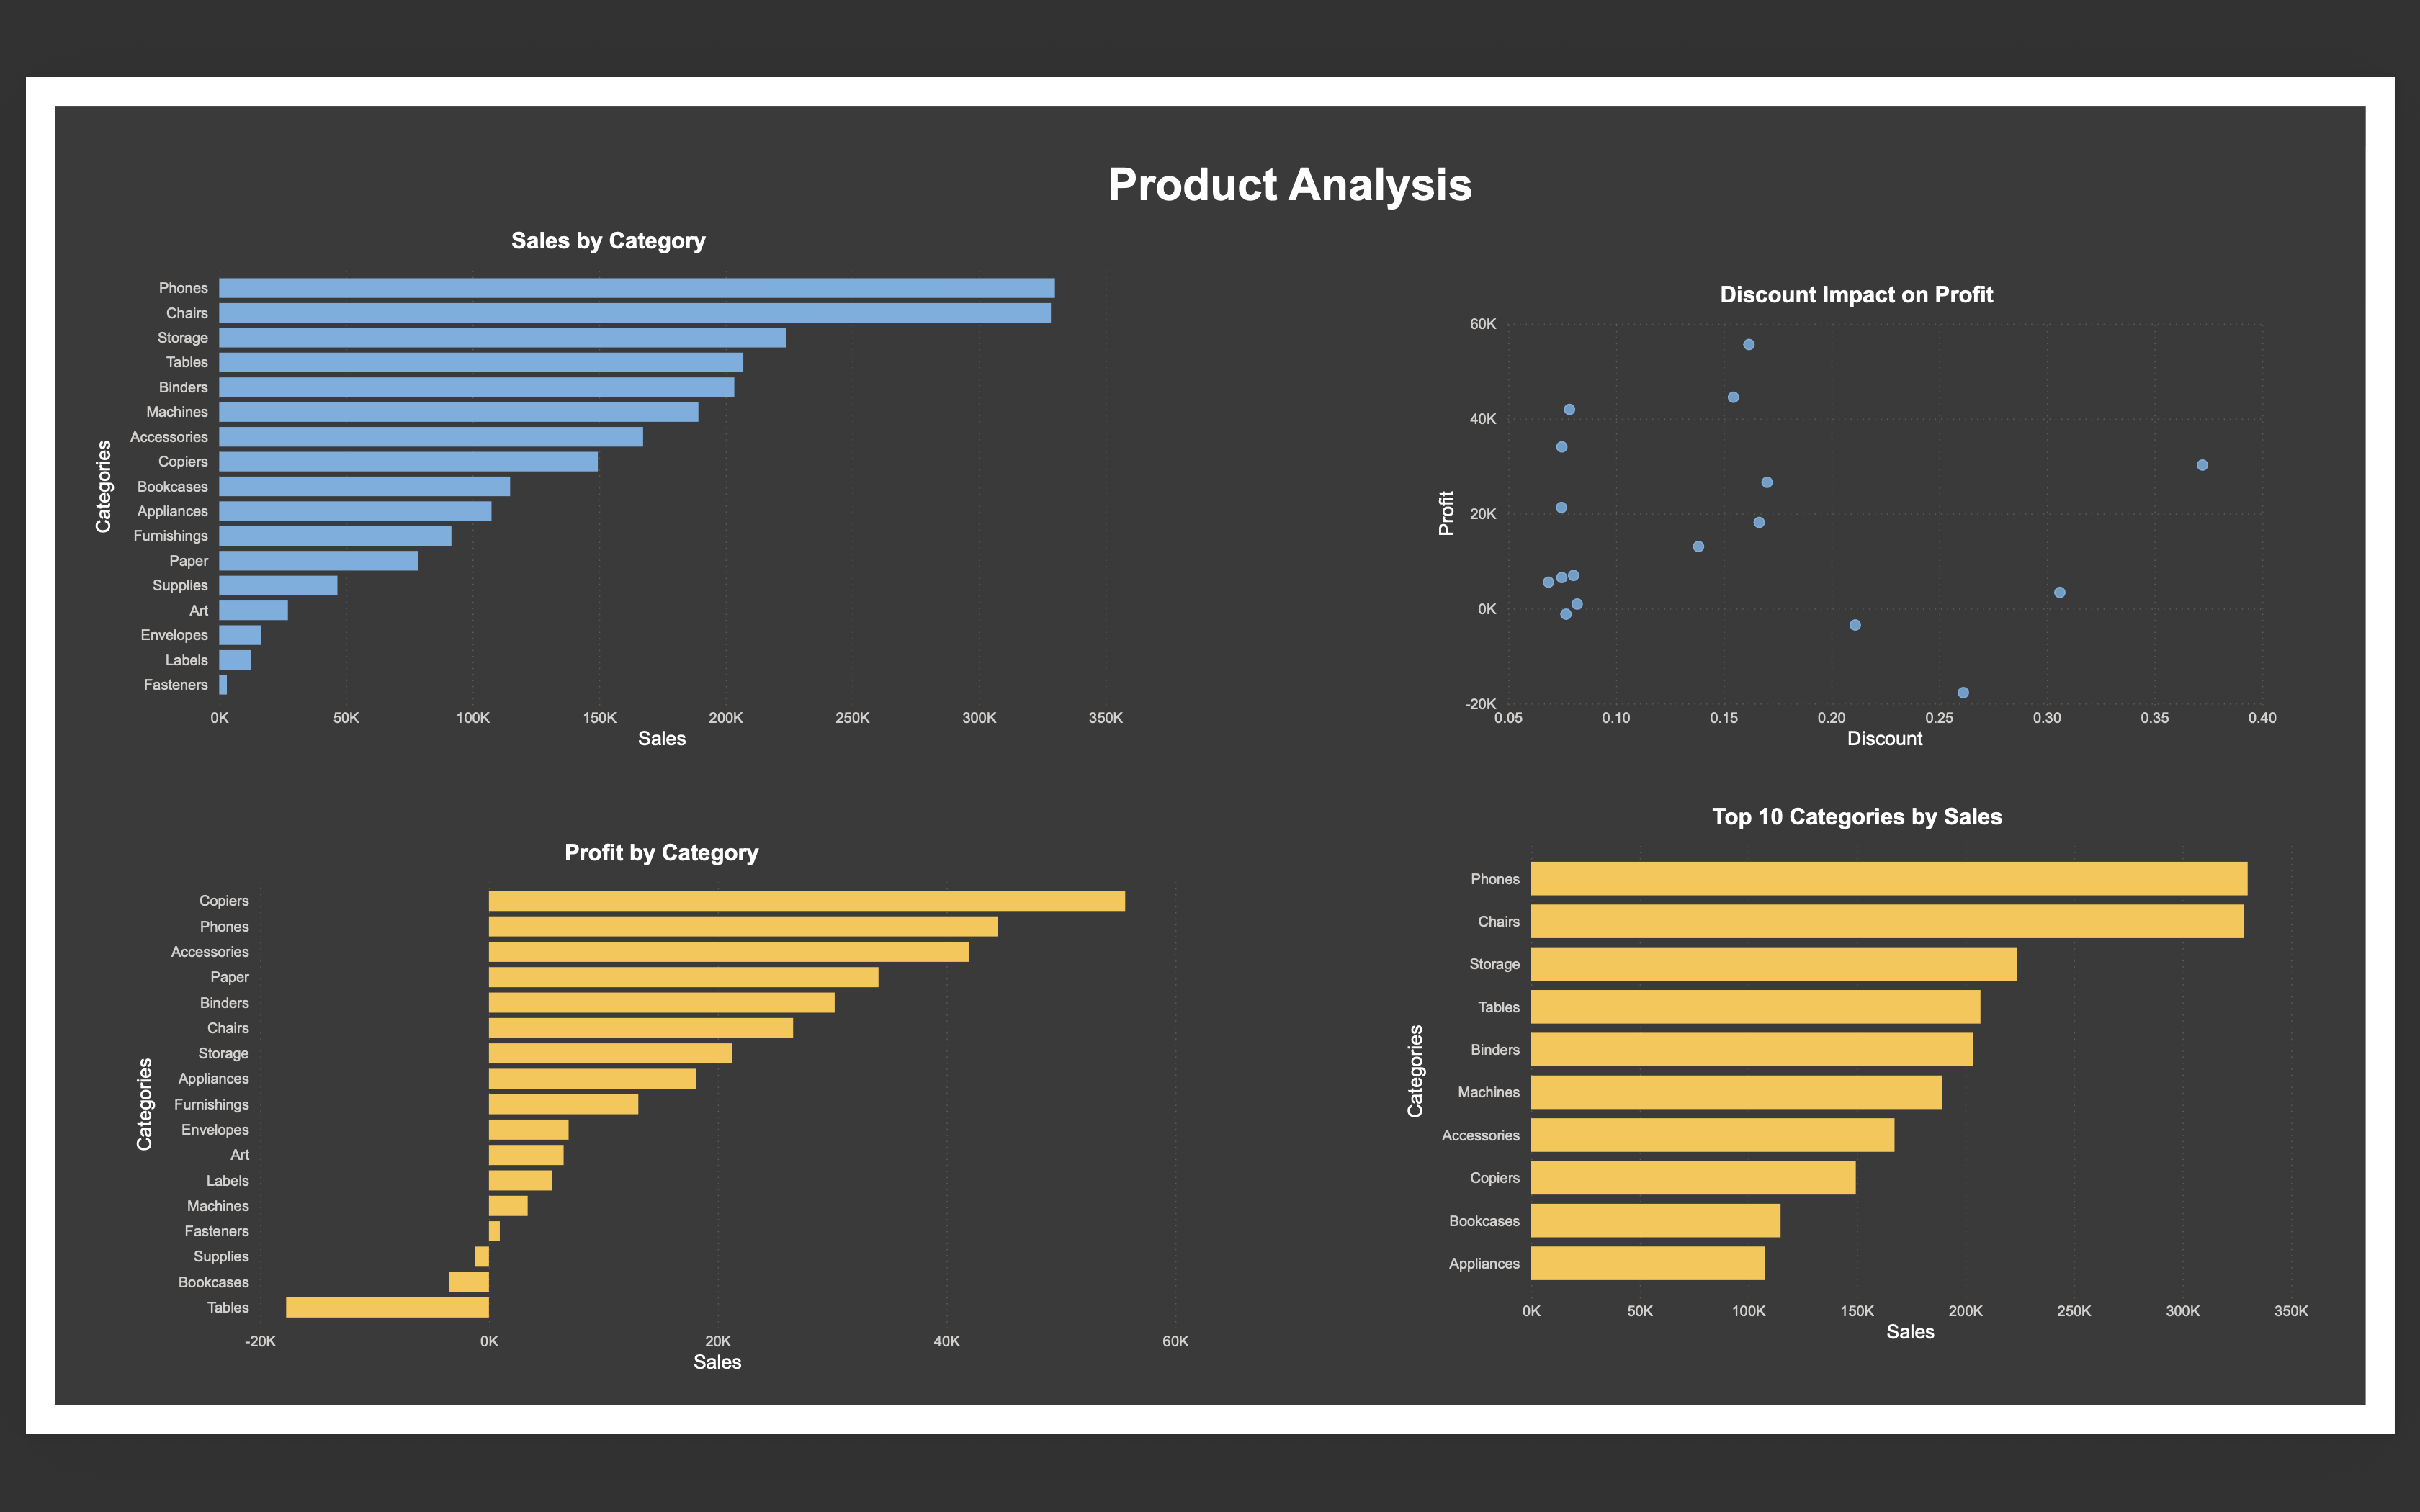

Layout of this report page (visuals, bound fields, positions):
{"tool":"powerbi","page":{"name":"Product Analysis","canvas":[1920,1080],"ordinal":2},"visuals":[{"type":"clusteredBarChart","title":"Sales by Category","fields":{"Y":["Sum(Sample - Superstore 3.Sales)"],"Category":["Sample - Superstore 3.Sub-Category"]},"box":[28.5,101.4,865,437.8],"z":0},{"type":"textbox","box":[763.5,39.2,526.8,64.1],"z":1000},{"type":"scatterChart","title":"Discount Impact on Profit","fields":{"Category":["Sample - Superstore 3.Sub-Category"],"Y":["Sum(Sample - Superstore 3.Profit)"],"X":["Avg(Sample - Superstore 3.Discount)"]},"box":[1144.4,145.9,706.6,393.3],"z":2000},{"type":"clusteredBarChart","title":"Profit by Category","fields":{"Category":["Sample - Superstore 3.Sub-Category"],"Y":["Sum(Sample - Superstore 3.Profit)"]},"box":[62.3,610.5,884.5,446.7],"z":3000},{"type":"clusteredBarChart","title":"Top 10 Categories by Sales","fields":{"Category":["Sample - Superstore 3.Sub-Category"],"Y":["Sum(Sample - Superstore 3.Sales)"]},"box":[1117.7,580.2,760,452.1],"z":4000}]}

Visuals, with their boxes on the page's 1920x1080 design canvas (x1, y1, x2, y2). These are canvas units, not pixel positions in the 2420x1512 screenshot, which may show the page scaled, cropped or inside an application window:
"Sales by Category" clusteredBarChart: [28,101,894,539]
textbox: [764,39,1290,103]
"Discount Impact on Profit" scatterChart: [1144,146,1851,539]
"Profit by Category" clusteredBarChart: [62,610,947,1057]
"Top 10 Categories by Sales" clusteredBarChart: [1118,580,1878,1032]
